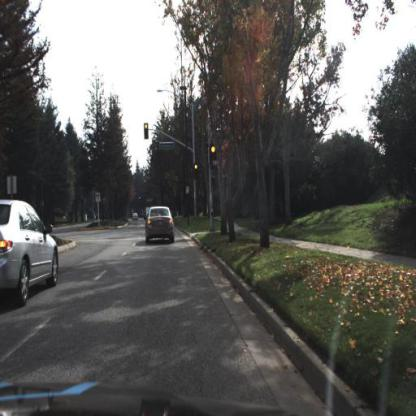car: (1, 195, 63, 306), (146, 204, 177, 245)
trafficLight-Red: (210, 140, 218, 167), (143, 122, 153, 142), (194, 161, 199, 182)
